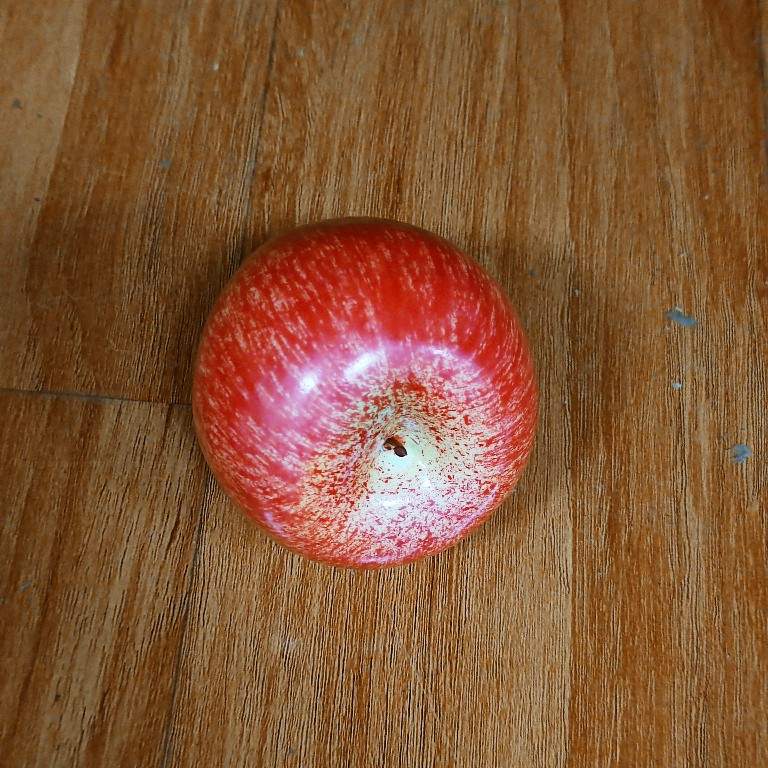fruit_apple: (183, 211, 541, 576)
